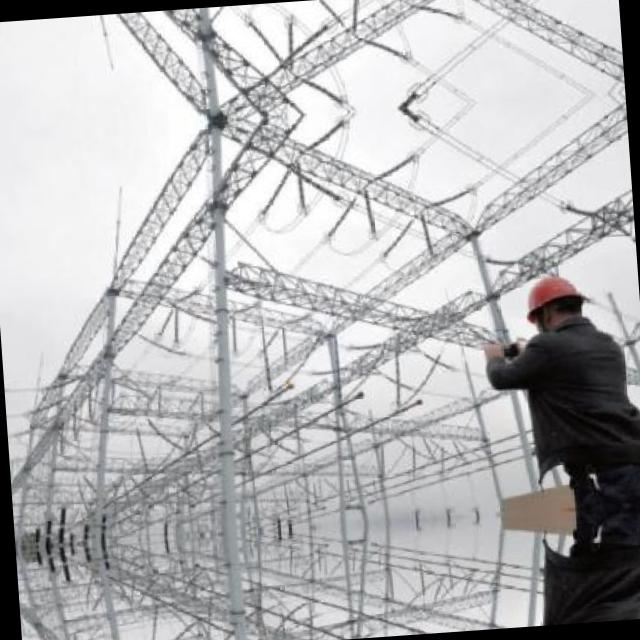helmet: (516, 268, 594, 340)
